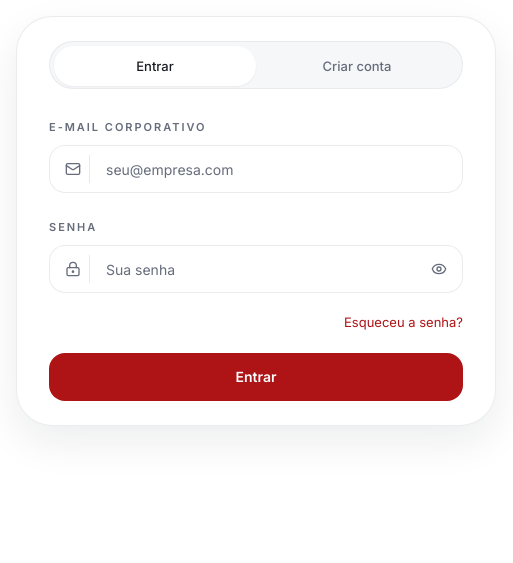
Test case: senha errada ou e-mail sem conta › oferece as duas saídas, porque não sabemos qual é o caso
Type "alguem@empresa.com" into the field labelled "E-mail corporativo". click: (256, 169)
box: [49,145,463,193]
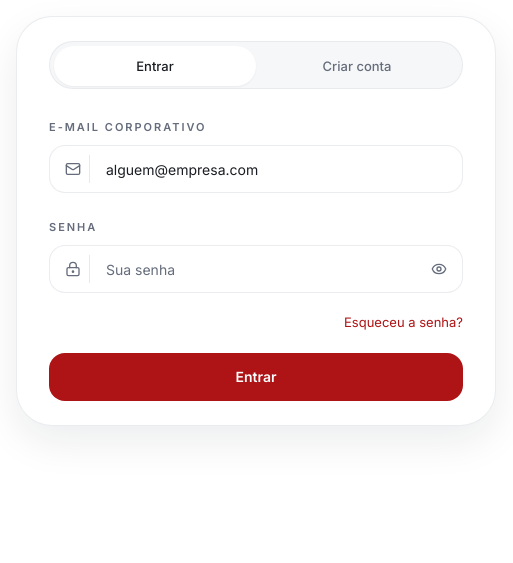
Type "SenhaQualquer@123" into the password field labelled "Senha". click: (256, 269)
box: [49,245,463,293]
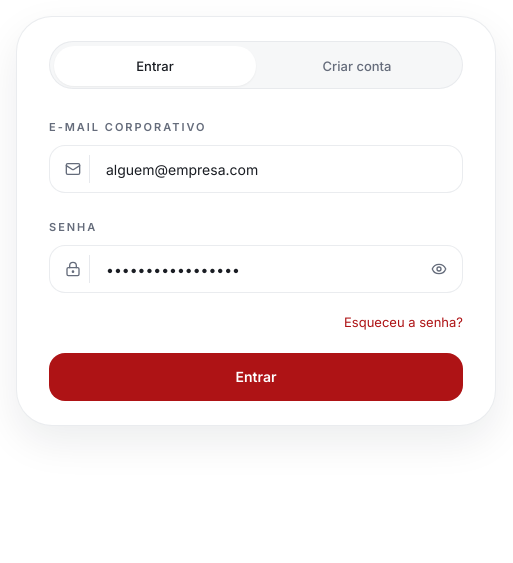
Click the button "Entrar". click: (256, 376)
box: [49,352,463,400]
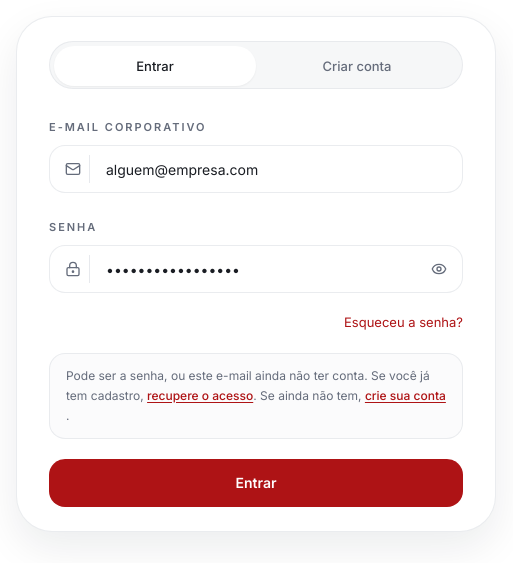
Expected: the link "recupere o acesso" is shown, [147,388,253,402]
Expected: the button "crie sua conta" is shown, [365,386,446,406]
